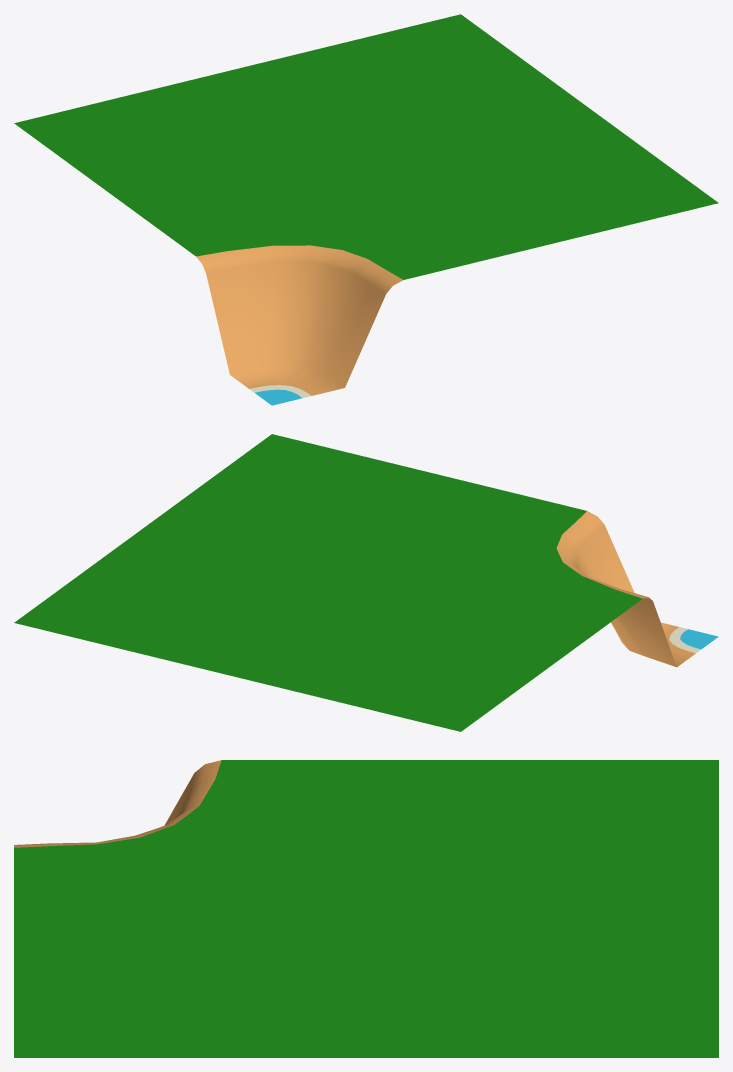
Rendered from Beach-Turn-2.fbx.
The picture shows the model from 3 angles, top to bottom: view 1: azimuth 30°, elevation 25°; view 2: azimuth 150°, elevation 25°; view 3: azimuth 270°, elevation 25°; orthographic projection. The views are drawn at different scales.
Visible parts, largest first — view 1: Beach-Turn-2_Terrain, Beach-Turn-2_Sand; view 2: Beach-Turn-2_Terrain, Beach-Turn-2_Sand, Beach-Turn-2_Water; view 3: Beach-Turn-2_Terrain, Beach-Turn-2_Sand.
Part boxes in pixels (x1,y1,x2,y2): Beach-Turn-2_Terrain: [14, 14, 718, 279]; Beach-Turn-2_Sand: [196, 245, 403, 395]; Beach-Turn-2_Terrain: [14, 434, 642, 731]; Beach-Turn-2_Sand: [556, 511, 695, 667]; Beach-Turn-2_Water: [680, 629, 718, 649]; Beach-Turn-2_Terrain: [14, 760, 718, 1057]; Beach-Turn-2_Sand: [14, 760, 221, 847].
Size of the model in its own units: 20 by 4 by 20.
